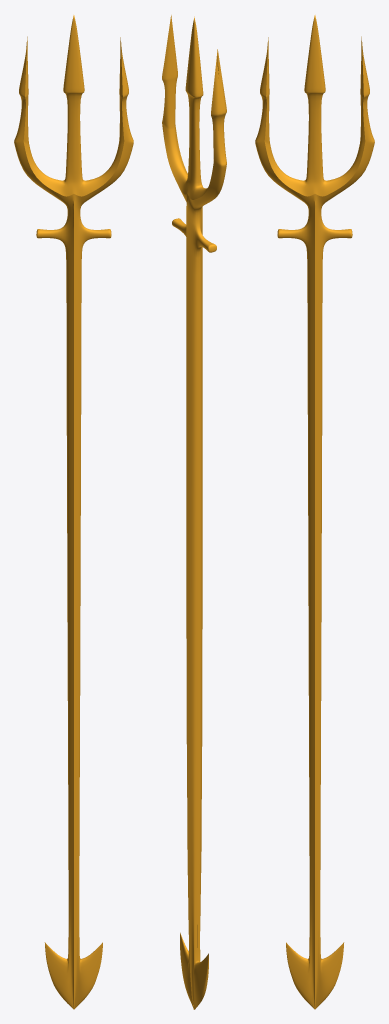
The model's file is trident.glb.
3 renders of one model, left to right at view 1: azimuth 90°, elevation 25°; view 2: azimuth 210°, elevation 25°; view 3: azimuth 270°, elevation 25°, orthographic.
Parts seen in each view (by area): view 1: Object_4; view 2: Object_4; view 3: Object_4.
Part boxes in pixels (box(x1,y1,x2,y2)): Object_4: box(14, 15, 133, 1009); Object_4: box(162, 15, 226, 1009); Object_4: box(255, 15, 374, 1009).
Size of the model in its own units: 0.0499 by 2.89 by 0.315.
